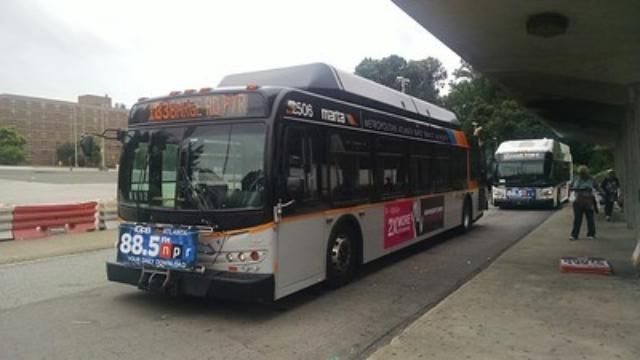bus: (104, 62, 486, 307), (486, 138, 573, 208)
